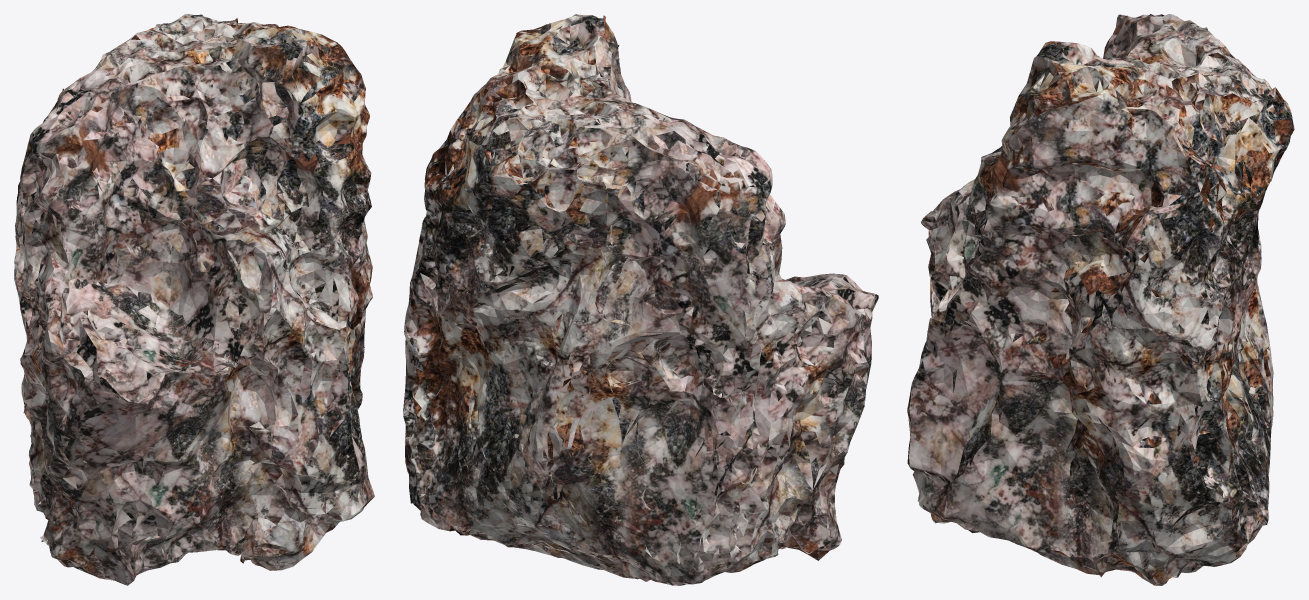
File: Quartz_Rock_GAL_001.glb
3 views of the same model, side by side, from view 1: azimuth 30°, elevation 25°; view 2: azimuth 150°, elevation 25°; view 3: azimuth 270°, elevation 25° (orthographic). The views are drawn at different scales.
Visible parts, largest first — view 1: tmp1elqyj5k.ply; view 2: tmp1elqyj5k.ply; view 3: tmp1elqyj5k.ply.
Boxes of the visible parts, x1,y1,x2,y2 form: tmp1elqyj5k.ply: [14, 14, 374, 585]; tmp1elqyj5k.ply: [403, 14, 878, 585]; tmp1elqyj5k.ply: [907, 14, 1294, 585].
Bounding box in the file's own units: 1.95 × 2.46 × 1.68.
Materials: 1 (1 with a texture image).
